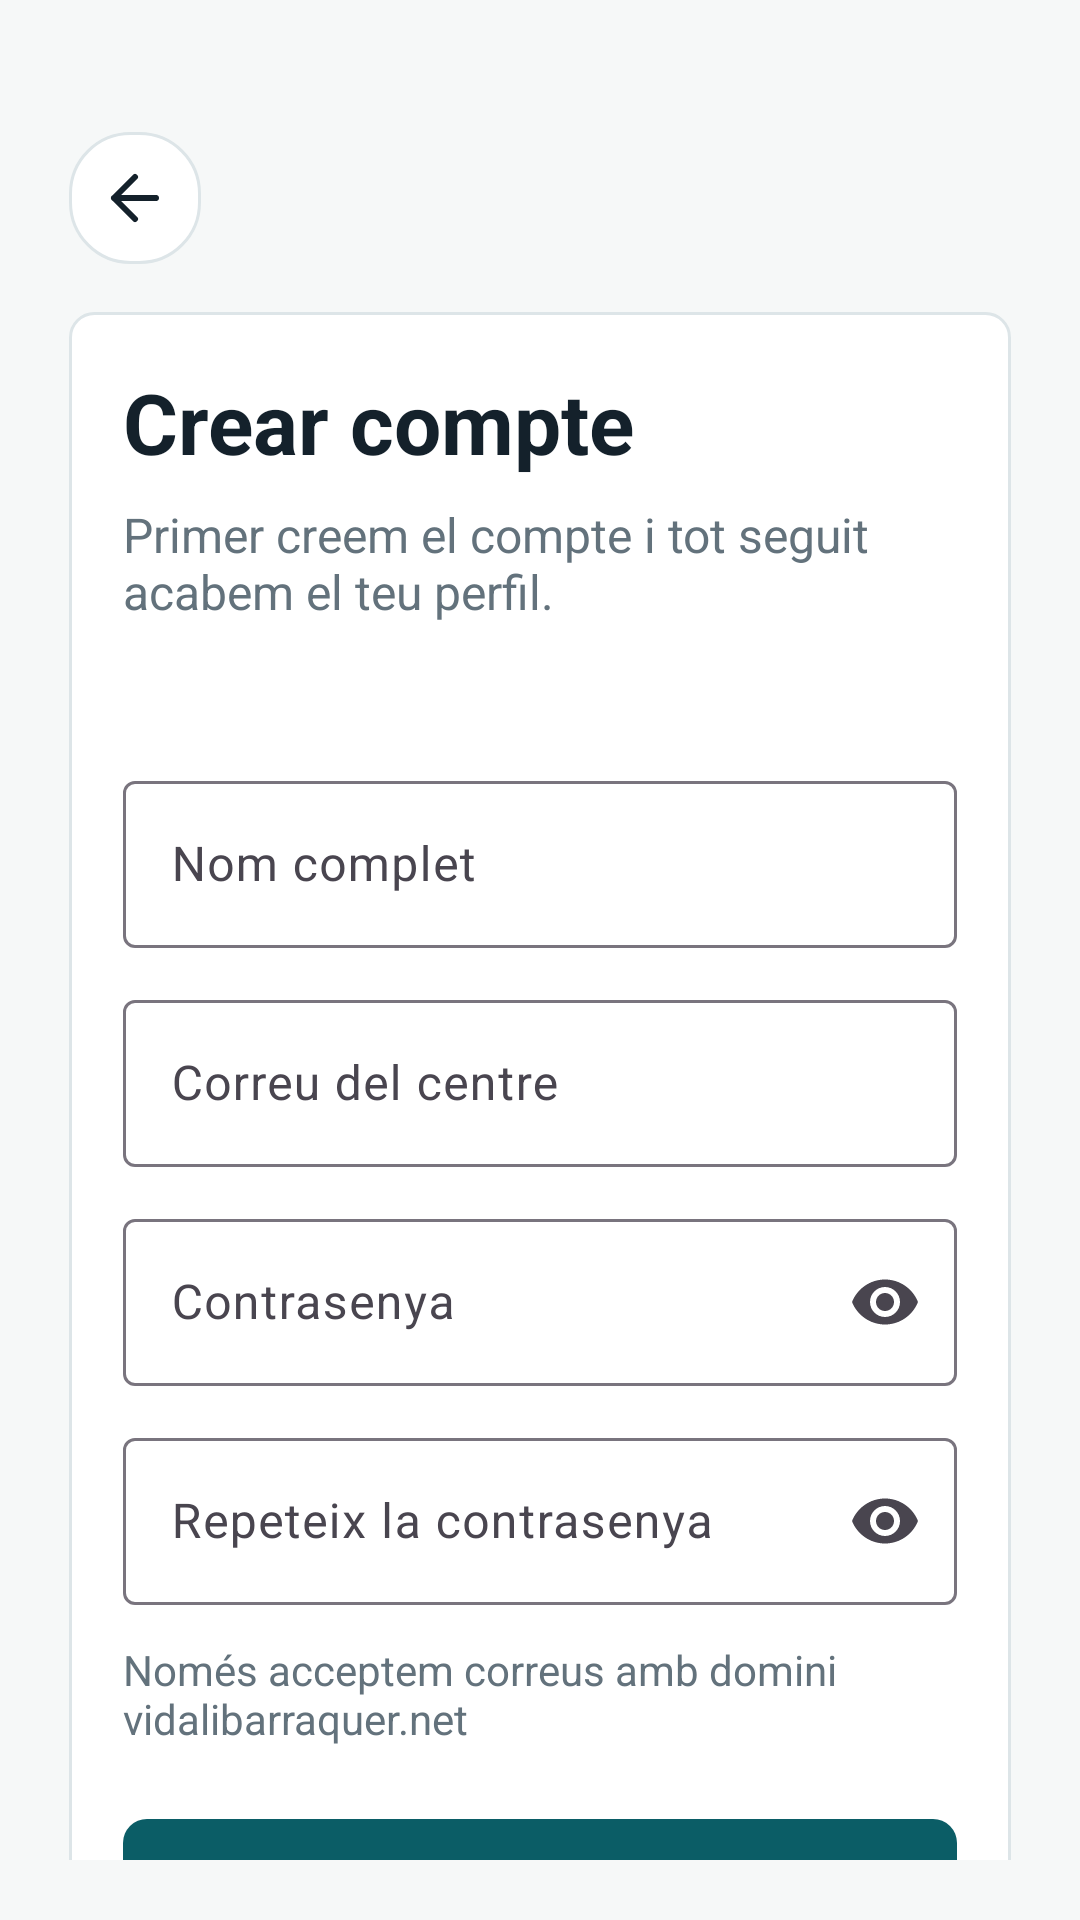

Icon bounding boxes for this 1080w x 1920h phone screenshot, format (x1, y1, x2, y2):
Torna enrere: (69, 132, 201, 264)
